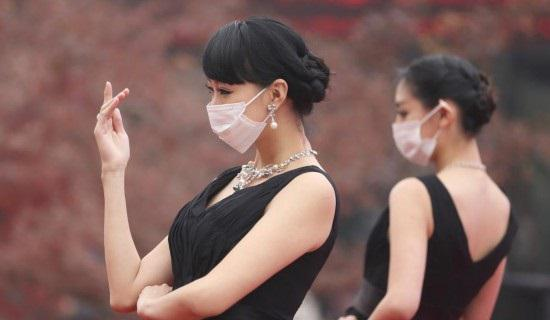OK: (206, 78, 274, 150), (391, 98, 459, 165)
